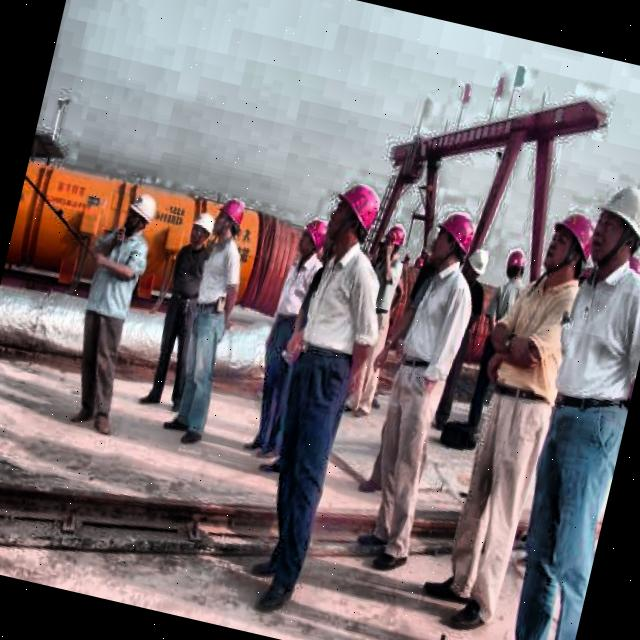helmet: (585, 171, 640, 279), (323, 174, 387, 260), (538, 208, 594, 286), (427, 206, 482, 278), (113, 185, 164, 242), (287, 208, 335, 266), (210, 192, 251, 242), (456, 242, 490, 292), (184, 206, 217, 251), (378, 219, 409, 264), (500, 243, 532, 282)
